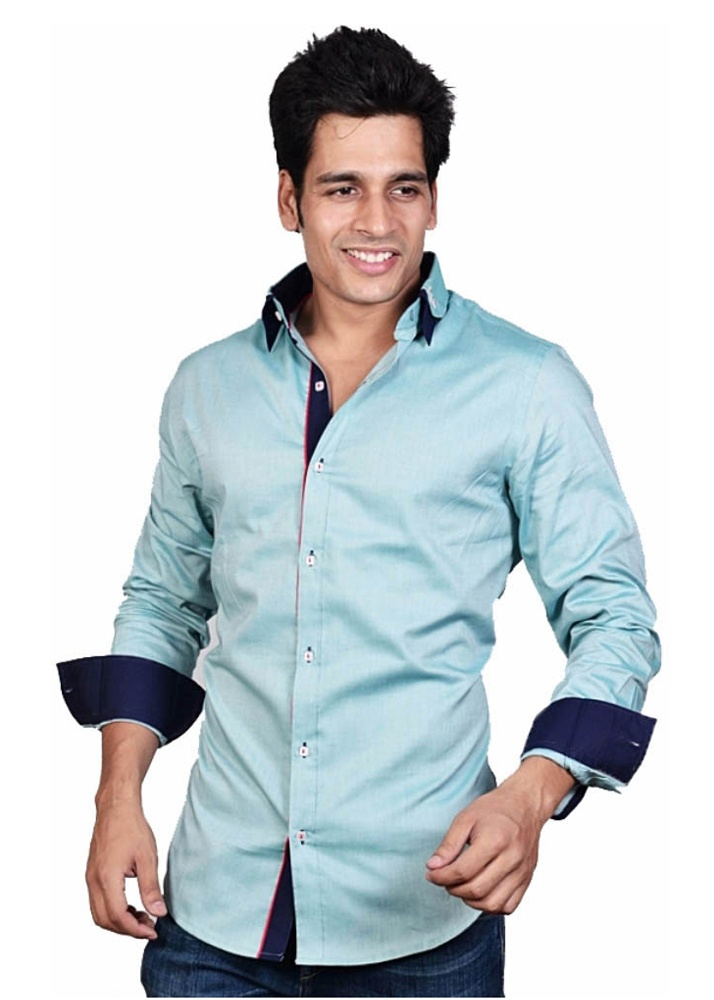Shirt: (53, 255, 698, 960)
